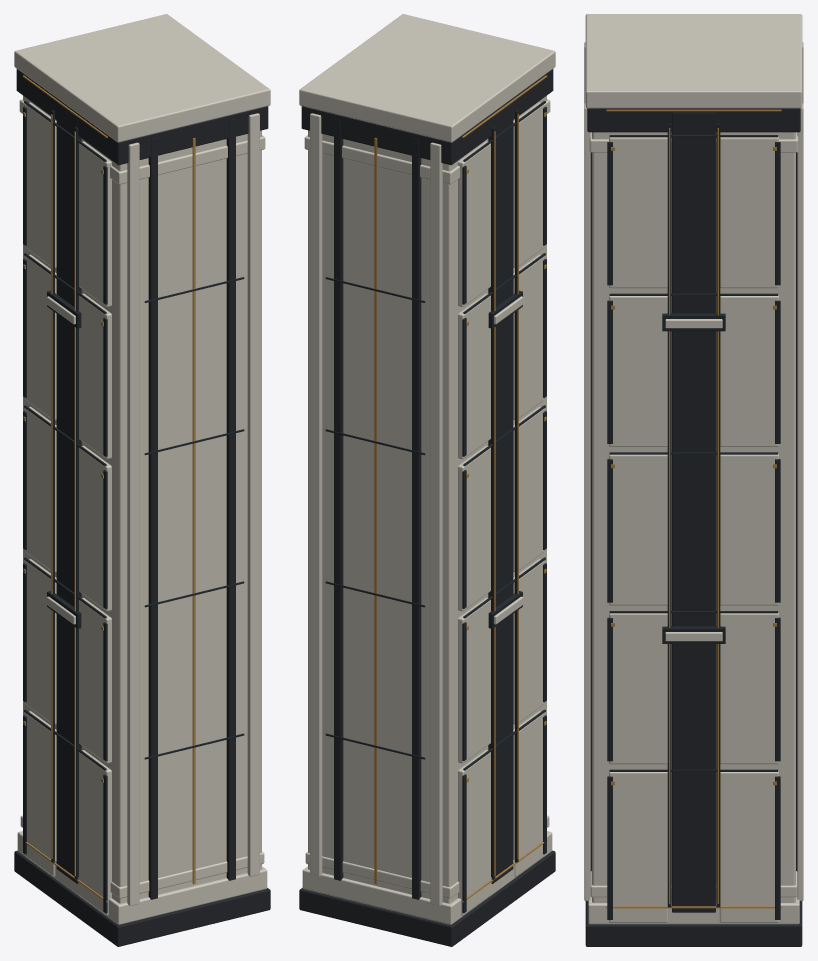
File: SM_Aurelion_KIT_Z11ObservationPierCladding.fbx
3 renders of one model, left to right at view 1: azimuth 30°, elevation 25°; view 2: azimuth 150°, elevation 25°; view 3: azimuth 270°, elevation 25°, orthographic. The views are drawn at different scales.
Visible parts, largest first — view 1: SM_Aurelion_KIT_Z11ObservationPierCladding; view 2: SM_Aurelion_KIT_Z11ObservationPierCladding; view 3: SM_Aurelion_KIT_Z11ObservationPierCladding.
Boxes of the visible parts, x1,y1,x2,y2 form: SM_Aurelion_KIT_Z11ObservationPierCladding: (14,14,270,946); SM_Aurelion_KIT_Z11ObservationPierCladding: (299,14,555,946); SM_Aurelion_KIT_Z11ObservationPierCladding: (584,14,803,946).
Bounding box in the file's own units: 125 × 138 × 593.
